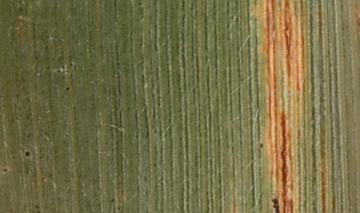tarspot: (271, 197, 280, 213), (24, 150, 31, 158), (259, 142, 265, 149), (110, 198, 116, 203), (65, 86, 70, 91), (3, 168, 8, 173)
